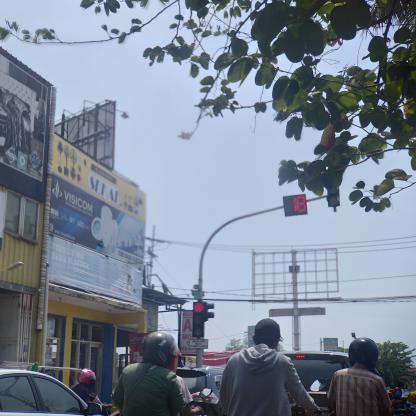red: (193, 302, 204, 338)
